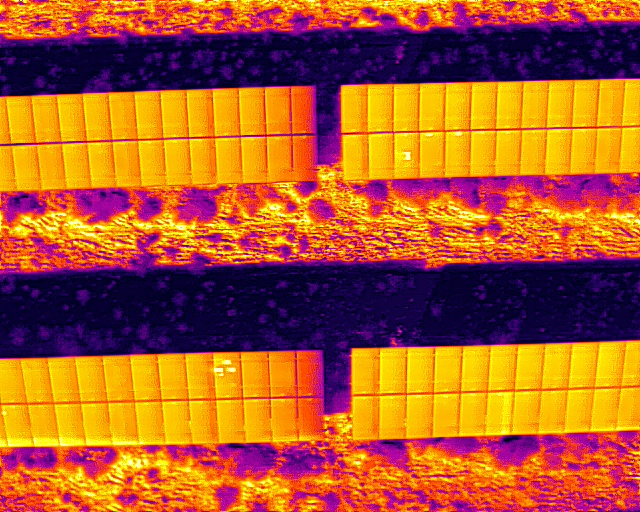multi_spot: (212, 351, 243, 399)
photovoltaic_panels: (4, 85, 318, 194), (3, 349, 325, 447), (339, 77, 635, 182), (350, 340, 637, 440)
single_spot: (391, 130, 421, 180)
stripe_spot: (485, 389, 515, 435)
